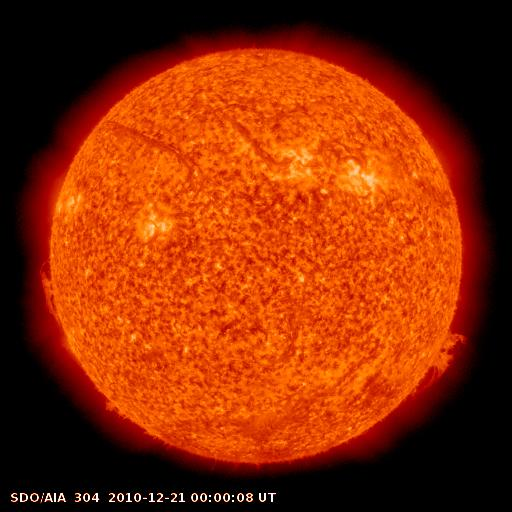prominence: (408, 322, 481, 404), (29, 259, 75, 325), (90, 393, 139, 432)
